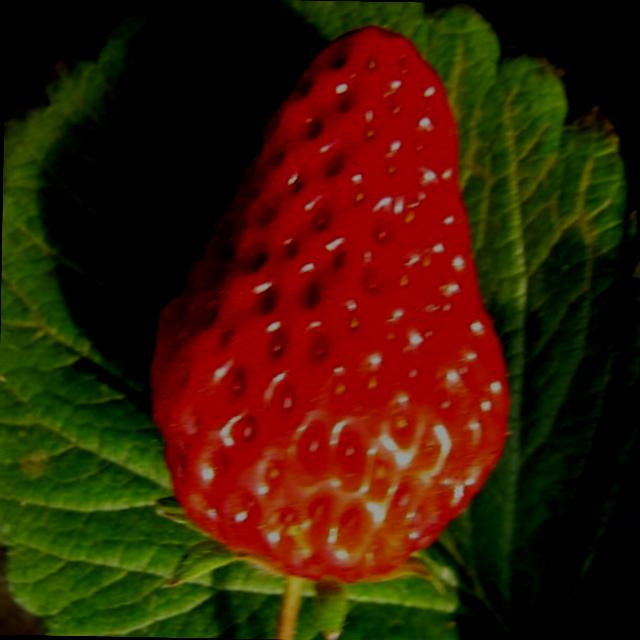Strawberry: (142, 20, 520, 640)
